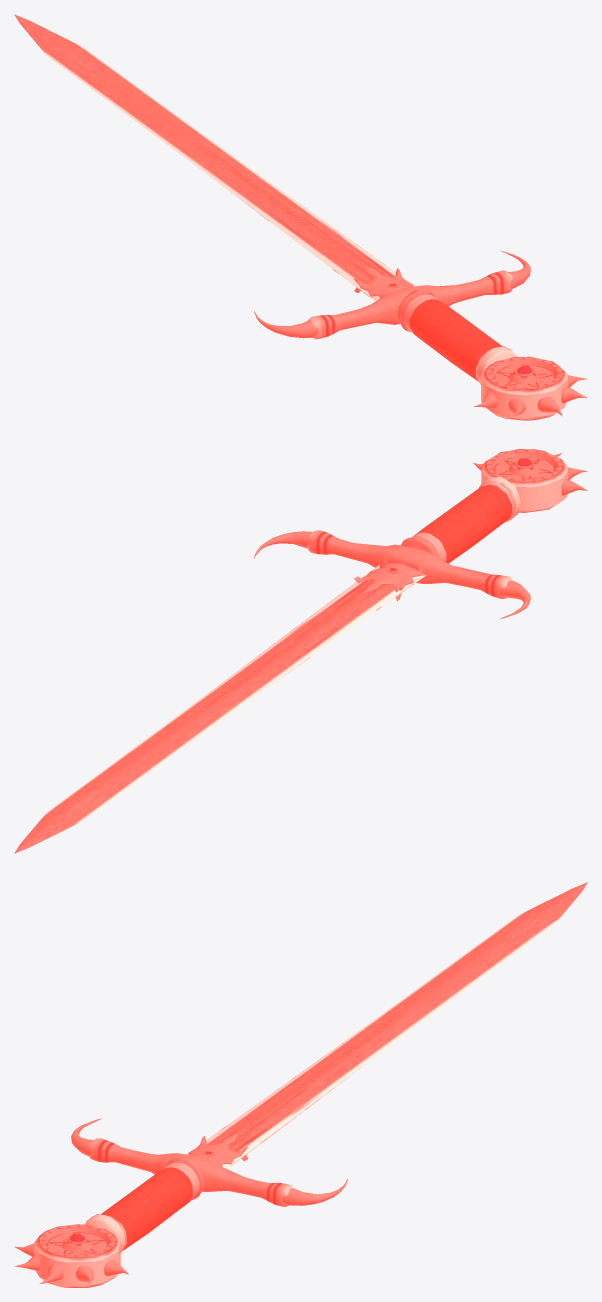
File: KnightSword vamp v6 LP_LOD2.glb
3 renders of one model, top to bottom at view 1: azimuth 30°, elevation 25°; view 2: azimuth 150°, elevation 25°; view 3: azimuth 330°, elevation 25°, orthographic.
Size of the model in its own units: 0.2771 by 0.0446 by 1.01.
Materials: 1 (1 with a texture image).
